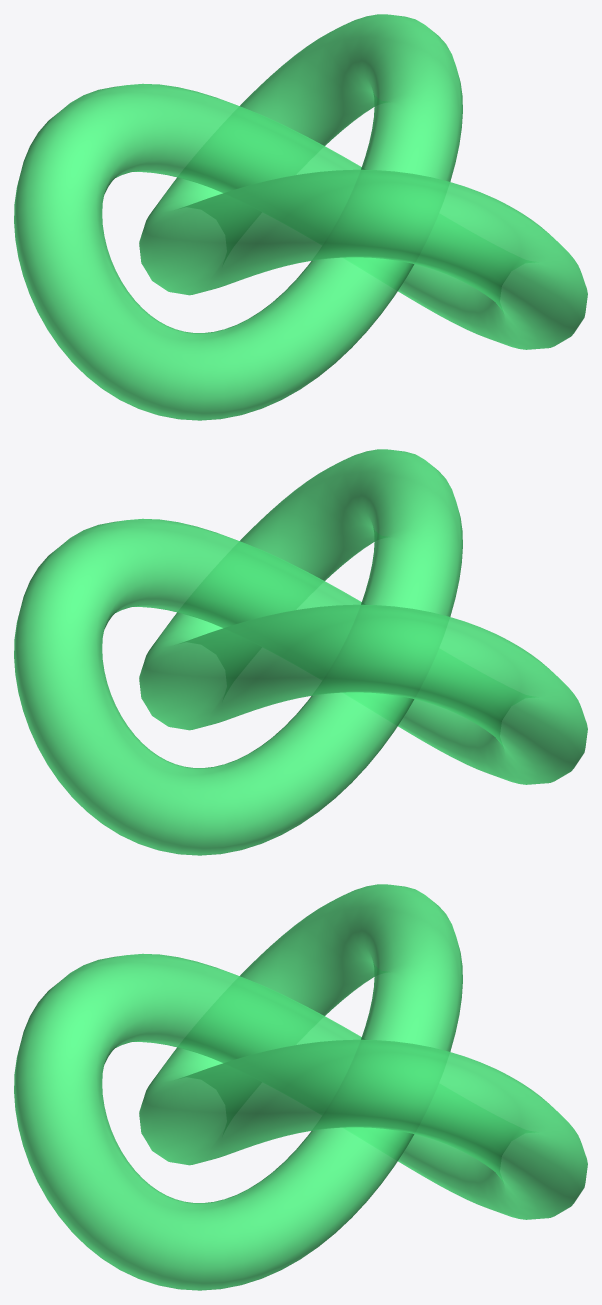
Rendered from simple-knot.obj.
The picture shows the model from 3 angles, top to bottom: view 1: azimuth 30°, elevation 25°; view 2: azimuth 150°, elevation 25°; view 3: azimuth 270°, elevation 25°; orthographic projection.
Visible parts, largest first — view 1: knot1; view 2: knot1; view 3: knot1.
Boxes of the visible parts, x1,y1,x2,y2 form: knot1: [14, 14, 587, 420]; knot1: [14, 449, 587, 855]; knot1: [14, 884, 587, 1290].
Bounding box in the file's own units: 3.03 × 1.49 × 3.23.
